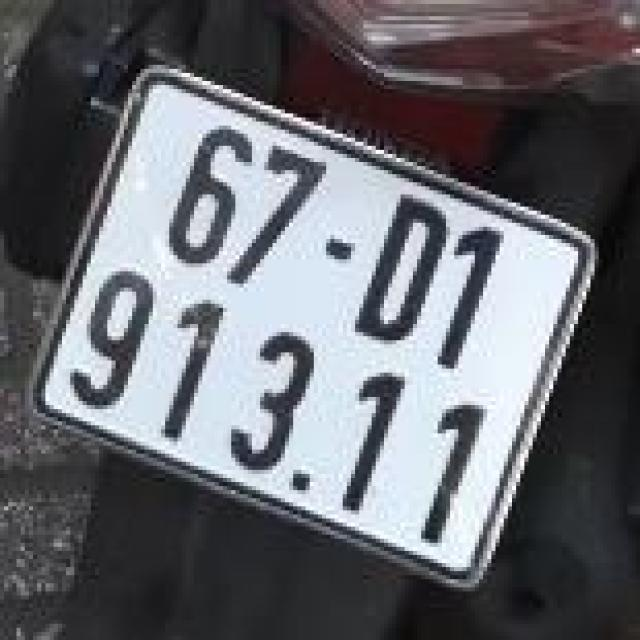1: (409, 214, 541, 383), (391, 383, 507, 558), (139, 289, 244, 446), (316, 359, 419, 519)
3: (211, 313, 333, 486)
6: (154, 114, 271, 280)
7: (214, 136, 342, 310)
9: (55, 258, 175, 420)
D: (338, 184, 466, 355)
